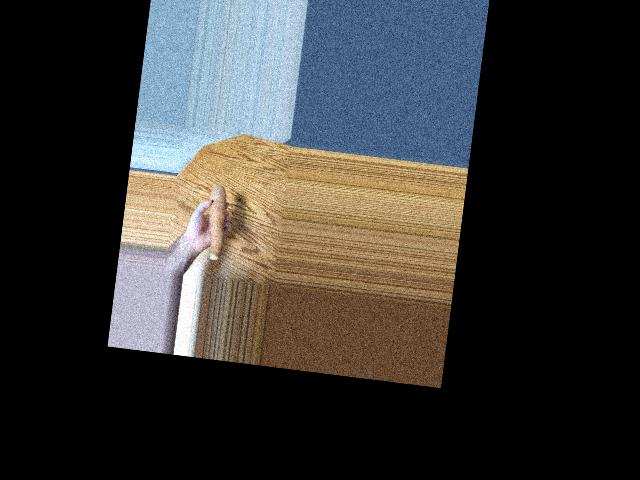sweet_potato: (206, 184, 234, 255)
